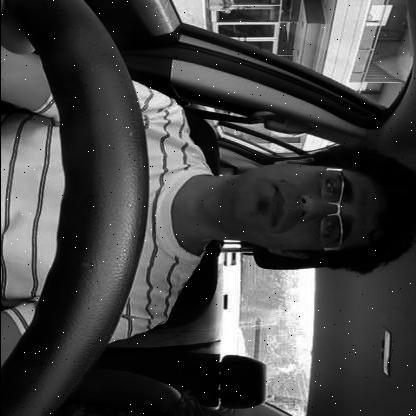no_seatbelt: (146, 99, 416, 289)
